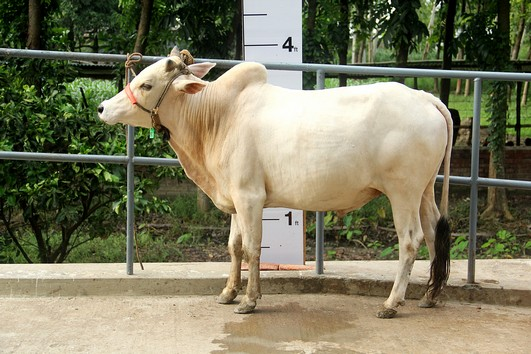cow: (89, 41, 458, 322)
